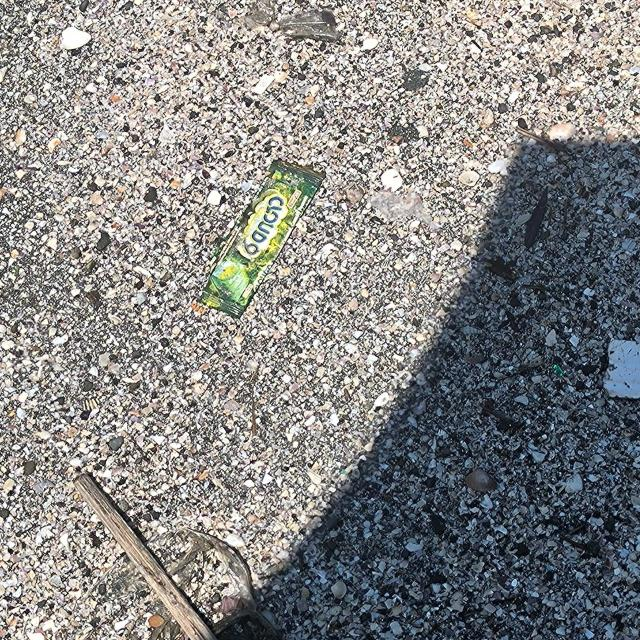plastic_waste: (198, 162, 328, 324)
